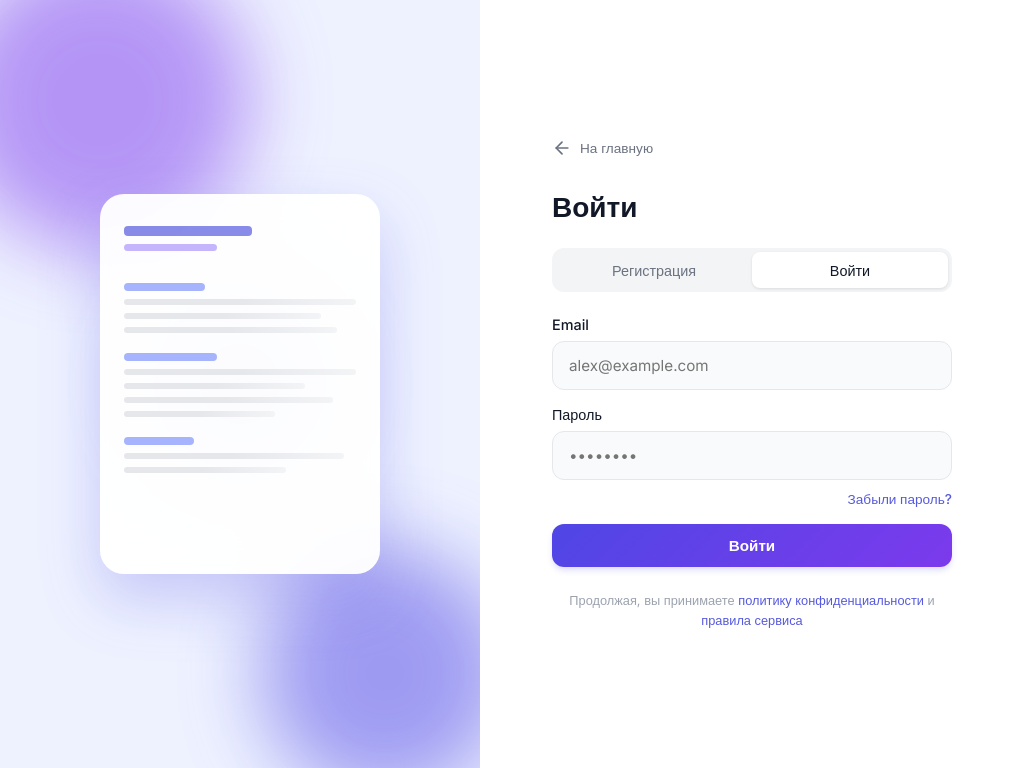
Scenario: AuthPage › switches between login and register tabs
Click the text "Регистрация". click: (654, 270)
box: [612,262,696,279]
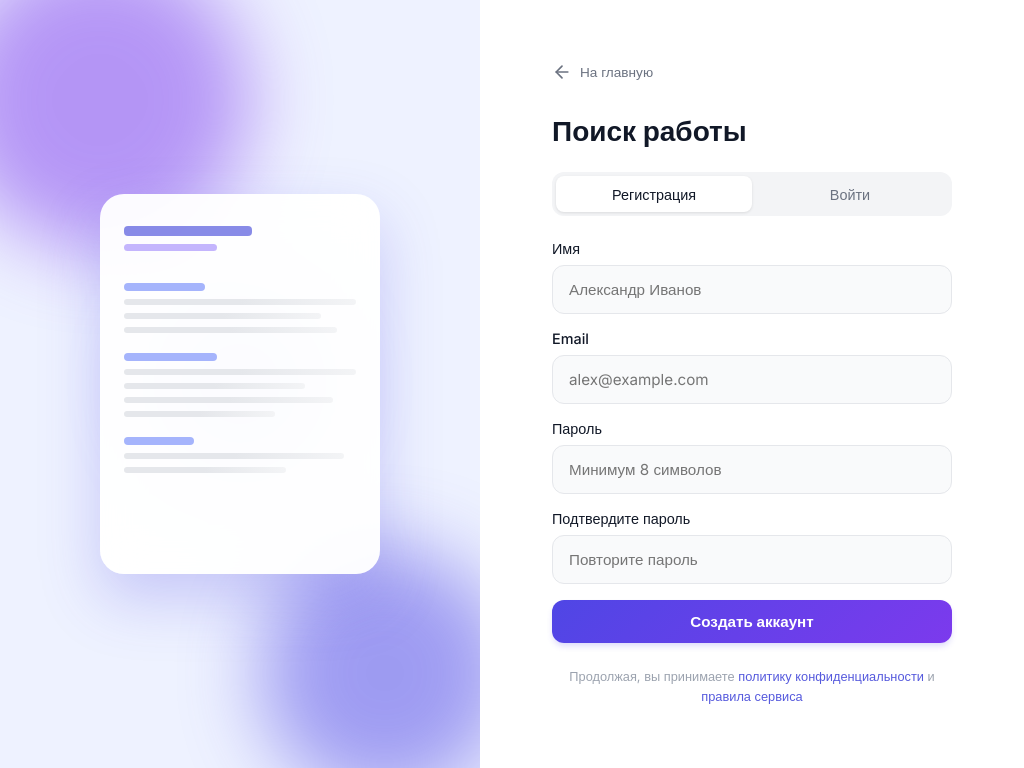
Now the heading "Поиск работы" is shown, box [552,114,747,148]
Click the text "Войти". click: (850, 194)
box: [830,186,870,203]
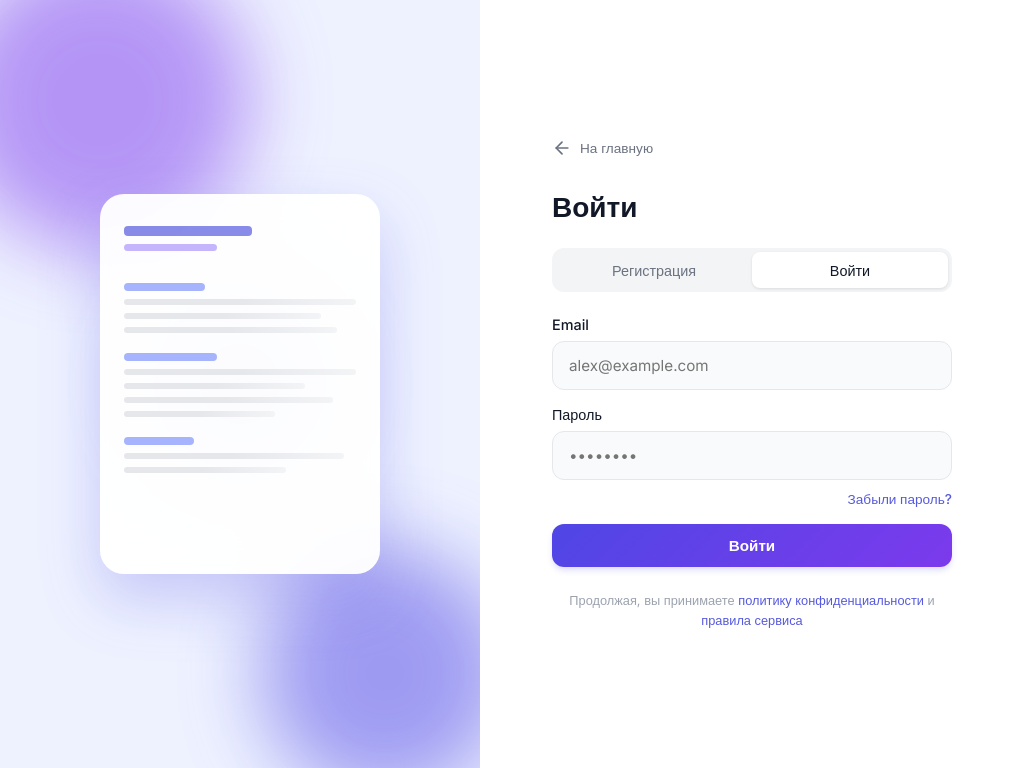
Now the heading "Войти" is shown, box [552,190,638,224]
